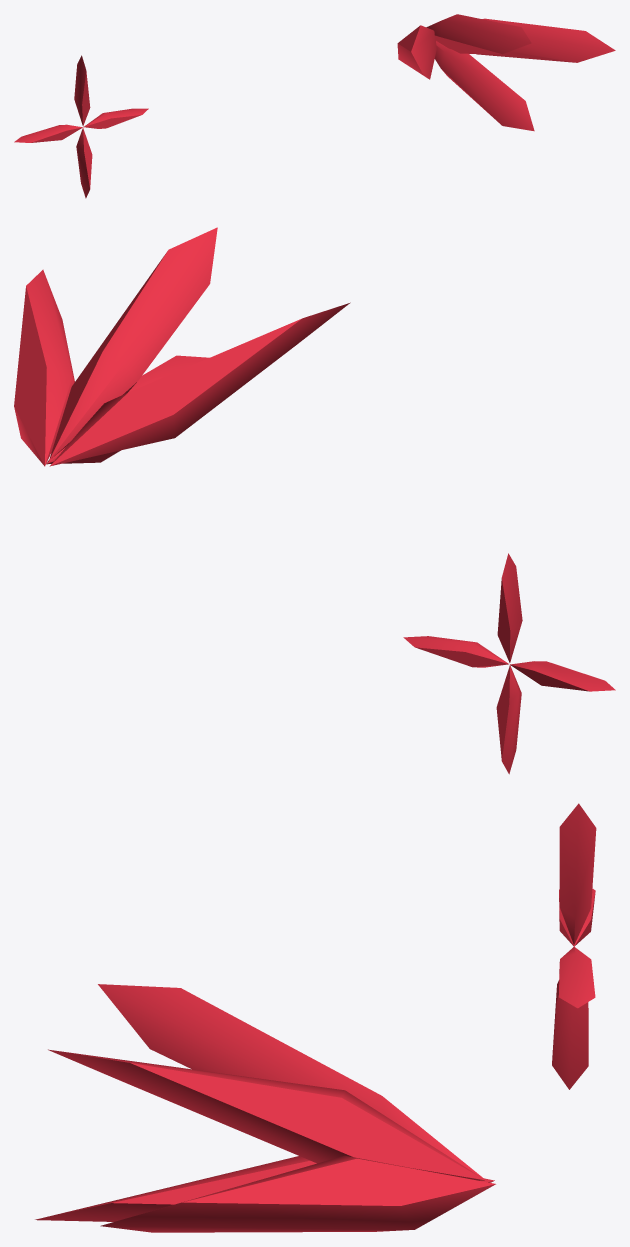
The model's file is glass enemies.fbx.
The picture shows the model from 3 angles, top to bottom: view 1: azimuth 30°, elevation 25°; view 2: azimuth 150°, elevation 25°; view 3: azimuth 270°, elevation 25°; orthographic projection. The views are drawn at different scales.
Parts seen in each view (by area): view 1: Cube.008, Cube.005; view 2: Cube.008, Cube.005; view 3: Cube.008, Cube.005.
Boxes of the visible parts, x1,y1,x2,y2 form: Cube.008: (397, 14, 615, 131); Cube.005: (14, 55, 148, 198); Cube.008: (14, 227, 350, 466); Cube.005: (403, 553, 615, 774); Cube.008: (35, 984, 495, 1232); Cube.005: (552, 803, 596, 1089).
Bounding box in the file's own units: 1820 × 628 × 919.
